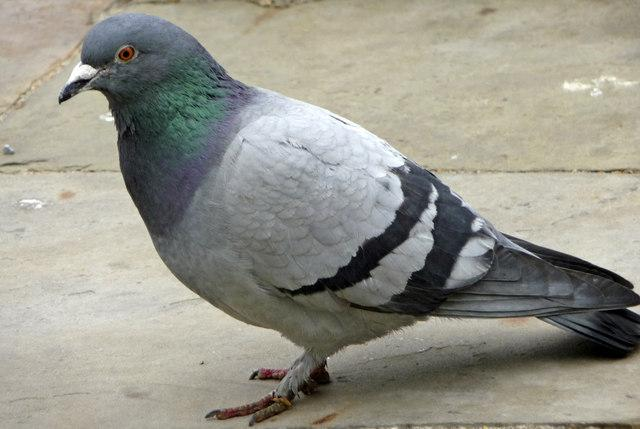Flying Rat: (55, 15, 640, 428)
